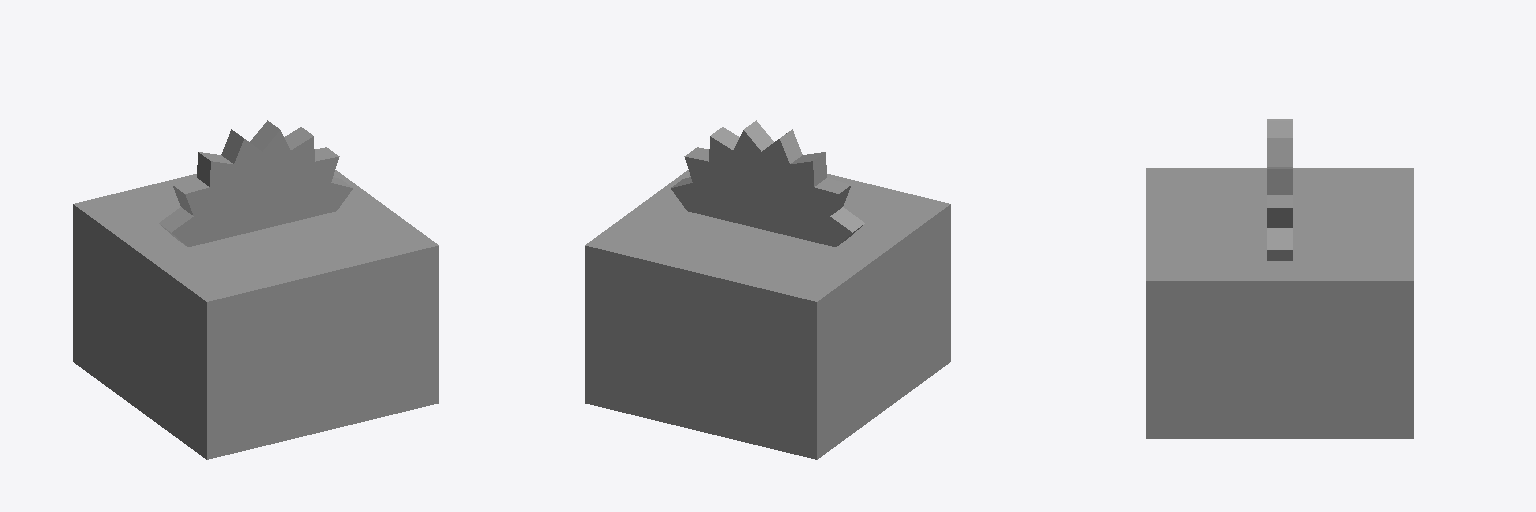
Rendered from Sawmill.obj.
The picture shows the model from 3 angles: view 1: azimuth 30°, elevation 25°; view 2: azimuth 150°, elevation 25°; view 3: azimuth 270°, elevation 25°; orthographic projection.
Parts seen in each view (by area): view 1: Cube_Sawmill; view 2: Cube_Sawmill; view 3: Cube_Sawmill.
Part boxes in pixels (x1,y1,x2,y2): Cube_Sawmill: (73, 120, 438, 459); Cube_Sawmill: (585, 120, 950, 459); Cube_Sawmill: (1146, 119, 1413, 438).
Size of the model in its own units: 2 by 2.08 by 2.